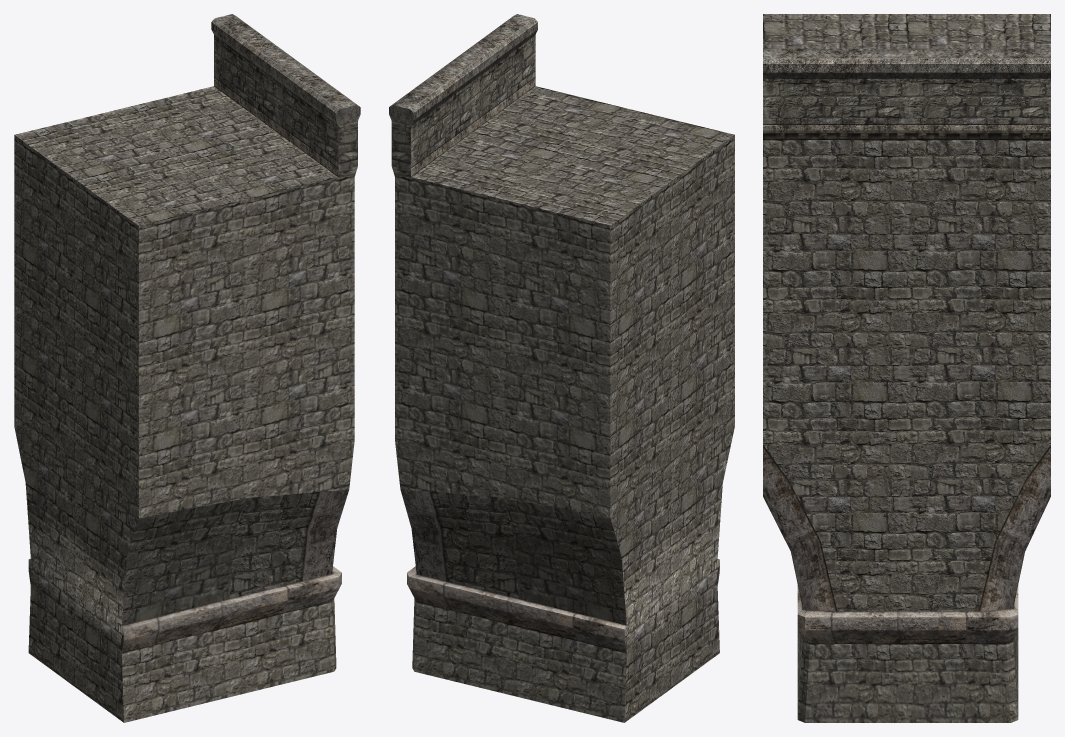
The model's file is StoneBridge_SupportDoubleSide.dae.
3 renders of one model, left to right at view 1: azimuth 30°, elevation 25°; view 2: azimuth 150°, elevation 25°; view 3: azimuth 270°, elevation 25°, orthographic. The views are drawn at different scales.
Parts seen in each view (by area): view 1: SupportDoubleRightT, SupportDoubleRightW; view 2: SupportDoubleRightT, SupportDoubleRightW; view 3: SupportDoubleRightT, SupportDoubleRightW.
Part boxes in pixels (bbox=[...]): SupportDoubleRightT: bbox=[14, 86, 354, 722]; SupportDoubleRightW: bbox=[122, 14, 360, 652]; SupportDoubleRightT: bbox=[395, 86, 734, 722]; SupportDoubleRightW: bbox=[389, 14, 626, 652]; SupportDoubleRightT: bbox=[763, 14, 1050, 722]; SupportDoubleRightW: bbox=[763, 48, 1050, 643].
Size of the model in its own units: 4.11 by 10.2 by 4.
